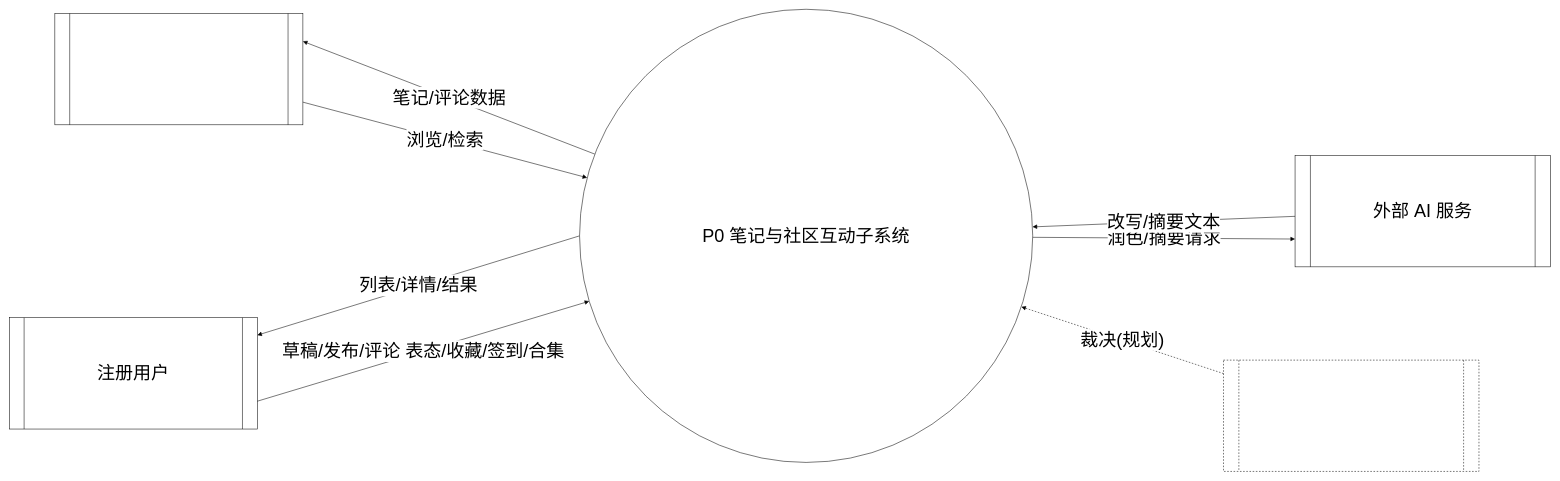
Image size: 1560x481. Some labels were removed from this diagram. Each missing label, with the centre of its shape:
匿名访客: point (178, 69)
管理员（规划）: point (1351, 415)
